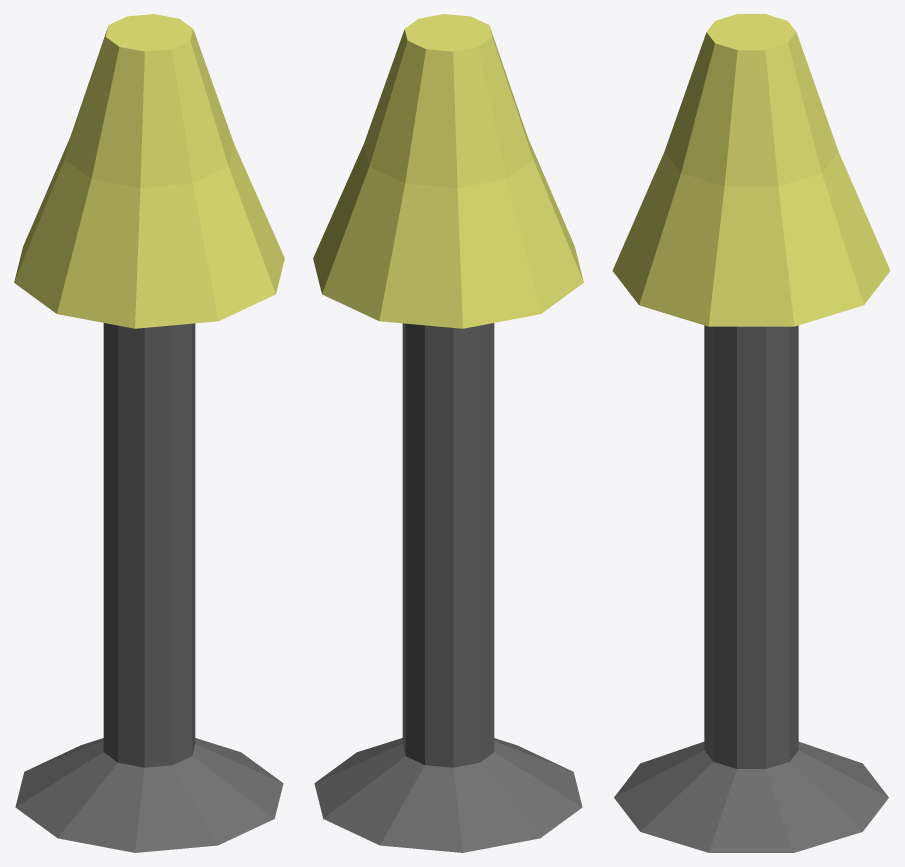
File: LongLamp.fbx
3 views of the same model, side by side, from view 1: azimuth 30°, elevation 25°; view 2: azimuth 150°, elevation 25°; view 3: azimuth 270°, elevation 25° (orthographic).
Visible parts, largest first — view 1: Cylinder; view 2: Cylinder; view 3: Cylinder.
Boxes of the visible parts, x1=… form: Cylinder: x1=14, y1=14, x2=284, y2=852; Cylinder: x1=313, y1=14, x2=583, y2=852; Cylinder: x1=612, y1=14, x2=890, y2=852.
Bounding box in the file's own units: 1.21 × 3.67 × 1.15.
